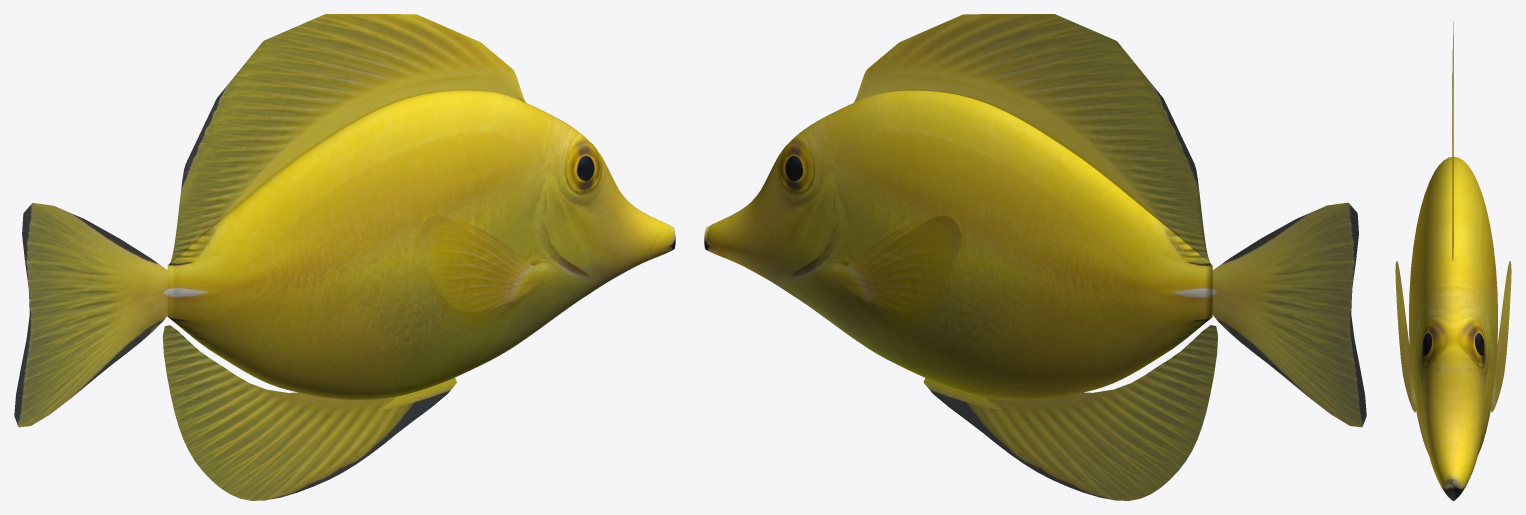
The model's file is yellow-CCMRPYfK.glb.
The picture shows the model from 3 angles, left to right: view 1: azimuth 30°, elevation 25°; view 2: azimuth 150°, elevation 25°; view 3: azimuth 270°, elevation 25°; orthographic projection. The views are drawn at different scales.
Visible parts, largest first — view 1: yellow__body, yellow__fin_1, yellow__fin_2, yellow__fin_0, yellow__pectoral_1, yellow__gill_1, yellow__eye_1; view 2: yellow__body, yellow__fin_1, yellow__fin_2, yellow__fin_0, yellow__pectoral_-1, yellow__gill_-1, yellow__eye_-1; view 3: yellow__body, yellow__pectoral_1, yellow__pectoral_-1, yellow__eye_1, yellow__eye_-1, yellow__gill_1, yellow__gill_-1, yellow__fin_1.
Boxes of the visible parts, x1,y1,x2,y2 form: yellow__body: [167, 90, 675, 399]; yellow__fin_1: [168, 14, 525, 266]; yellow__fin_2: [162, 325, 456, 500]; yellow__fin_0: [14, 203, 168, 427]; yellow__pectoral_1: [418, 215, 534, 311]; yellow__gill_1: [540, 177, 590, 308]; yellow__eye_1: [570, 143, 599, 188]; yellow__body: [704, 90, 1212, 400]; yellow__fin_1: [854, 14, 1212, 266]; yellow__fin_2: [923, 325, 1217, 500]; yellow__fin_0: [1212, 202, 1366, 427]; yellow__pectoral_-1: [845, 215, 961, 312]; yellow__gill_-1: [789, 177, 839, 308]; yellow__eye_-1: [780, 144, 809, 188]; yellow__body: [1409, 156, 1497, 500]; yellow__pectoral_1: [1395, 261, 1416, 412]; yellow__pectoral_-1: [1490, 261, 1511, 412]; yellow__eye_1: [1421, 324, 1441, 362]; yellow__eye_-1: [1465, 324, 1485, 362]; yellow__gill_1: [1415, 325, 1428, 454]; yellow__gill_-1: [1478, 325, 1491, 454]; yellow__fin_1: [1452, 21, 1453, 260].
Bounding box in the file's own units: 1.3 × 0.8925 × 0.2108.
4 materials, 4 textured.
